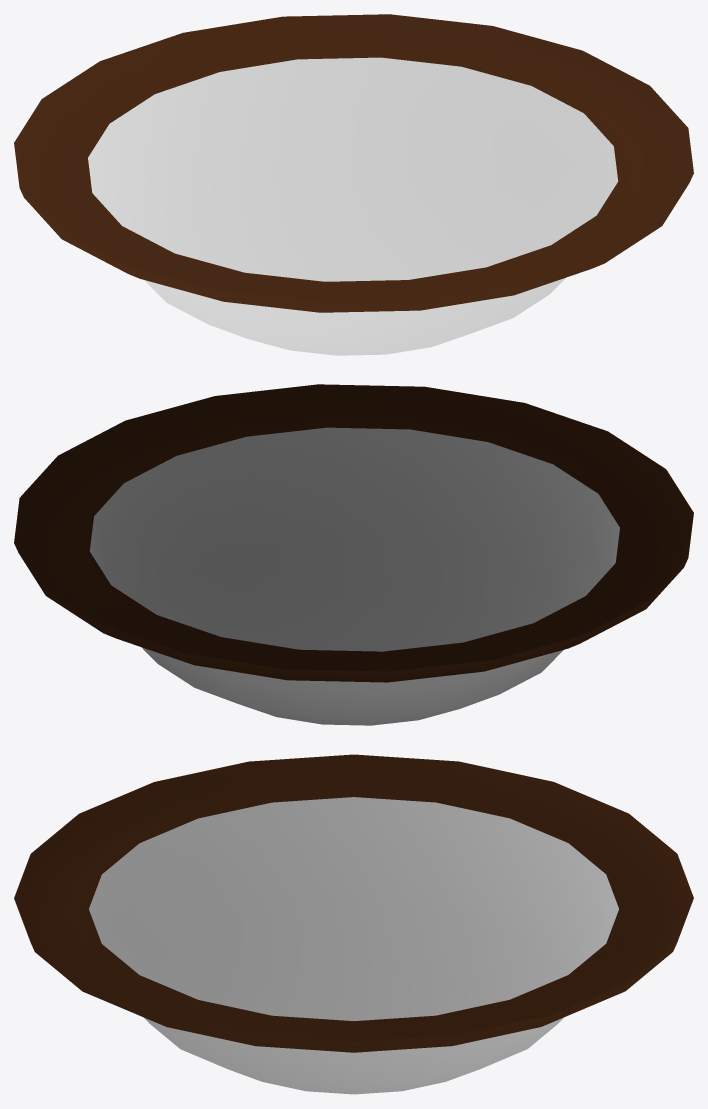
The picture shows the model from 3 angles, top to bottom: view 1: azimuth 30°, elevation 25°; view 2: azimuth 150°, elevation 25°; view 3: azimuth 270°, elevation 25°; orthographic projection.
Visible parts, largest first — view 1: Sphere.041_6e71485e; view 2: Sphere.041_6e71485e; view 3: Sphere.041_6e71485e.
Boxes of the visible parts, x1=… form: Sphere.041_6e71485e: x1=14, y1=14, x2=693, y2=355; Sphere.041_6e71485e: x1=14, y1=384, x2=693, y2=725; Sphere.041_6e71485e: x1=14, y1=754, x2=693, y2=1094.
Size of the model in its own units: 0.3497 by 0.0945 by 0.3496.
